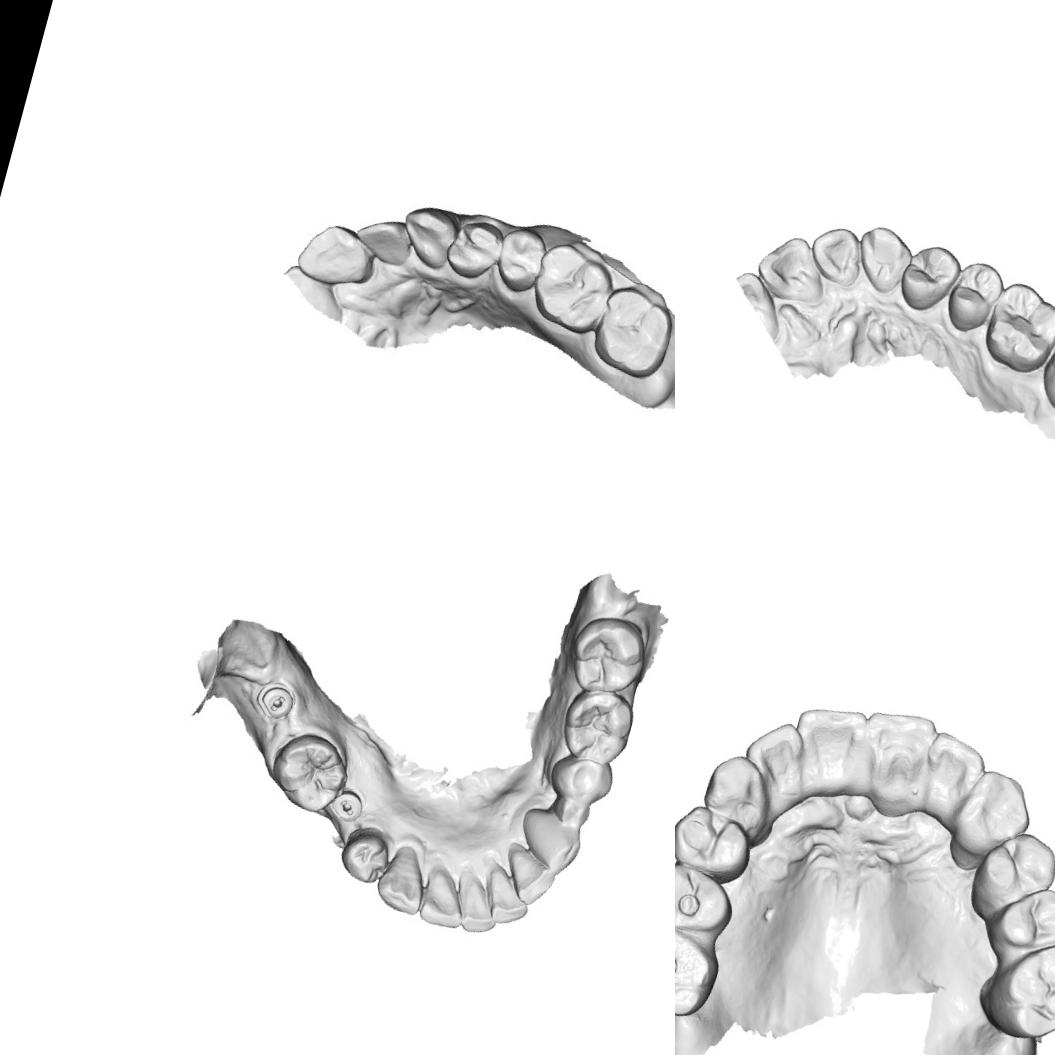canine: (944, 762, 1040, 868), (694, 747, 782, 842), (509, 802, 588, 882), (846, 219, 918, 300), (369, 836, 438, 920), (389, 200, 457, 274)
implant_minus: (322, 781, 371, 832), (251, 676, 300, 726)
incisor: (847, 699, 941, 803), (781, 693, 870, 787), (748, 227, 836, 310), (734, 710, 814, 799), (293, 214, 378, 293), (914, 726, 991, 812), (799, 219, 869, 291), (414, 860, 477, 934), (495, 845, 562, 912), (446, 866, 508, 938), (474, 865, 536, 931), (354, 214, 412, 270)
molar: (524, 232, 622, 338), (560, 606, 655, 706), (260, 722, 356, 820), (587, 281, 675, 383), (985, 928, 1055, 1053), (975, 275, 1055, 381), (552, 680, 642, 772), (675, 914, 727, 1025), (1031, 319, 1055, 427)
premolar: (969, 821, 1055, 915), (675, 798, 757, 889), (890, 236, 968, 321), (985, 874, 1055, 966), (938, 252, 1010, 340), (675, 855, 744, 941), (543, 743, 621, 812), (438, 215, 510, 287), (487, 219, 553, 297), (332, 820, 398, 891)
